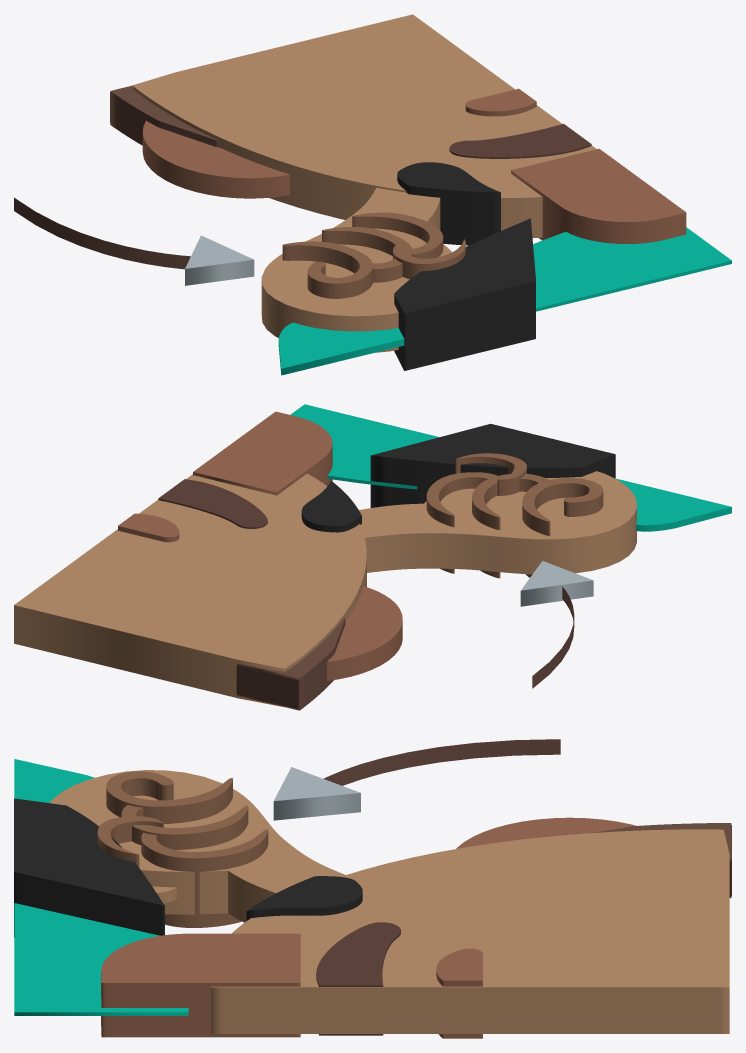
File: emoji_u1f9cf_1f3fd_200d_2642.glb
3 renders of one model, top to bottom at view 1: azimuth 30°, elevation 25°; view 2: azimuth 150°, elevation 25°; view 3: azimuth 270°, elevation 25°, orthographic. The views are drawn at different scales.
Visible parts, largest first — view 1: emoji_u1f9cf_1f3fd_200d_2642; view 2: emoji_u1f9cf_1f3fd_200d_2642; view 3: emoji_u1f9cf_1f3fd_200d_2642.
Part boxes in pixels (bbox=[...]): emoji_u1f9cf_1f3fd_200d_2642: bbox=[14, 14, 731, 375]; emoji_u1f9cf_1f3fd_200d_2642: bbox=[14, 404, 731, 710]; emoji_u1f9cf_1f3fd_200d_2642: bbox=[14, 739, 731, 1038].
Size of the model in its own units: 0.0296 by 0.0042 by 0.0336.
